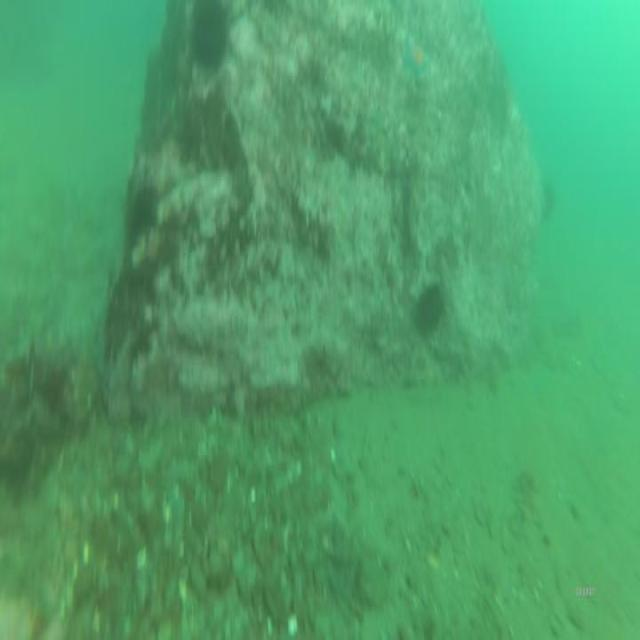echinus: (187, 3, 230, 74), (126, 177, 158, 247), (412, 278, 447, 337)
starfish: (400, 28, 431, 86)
